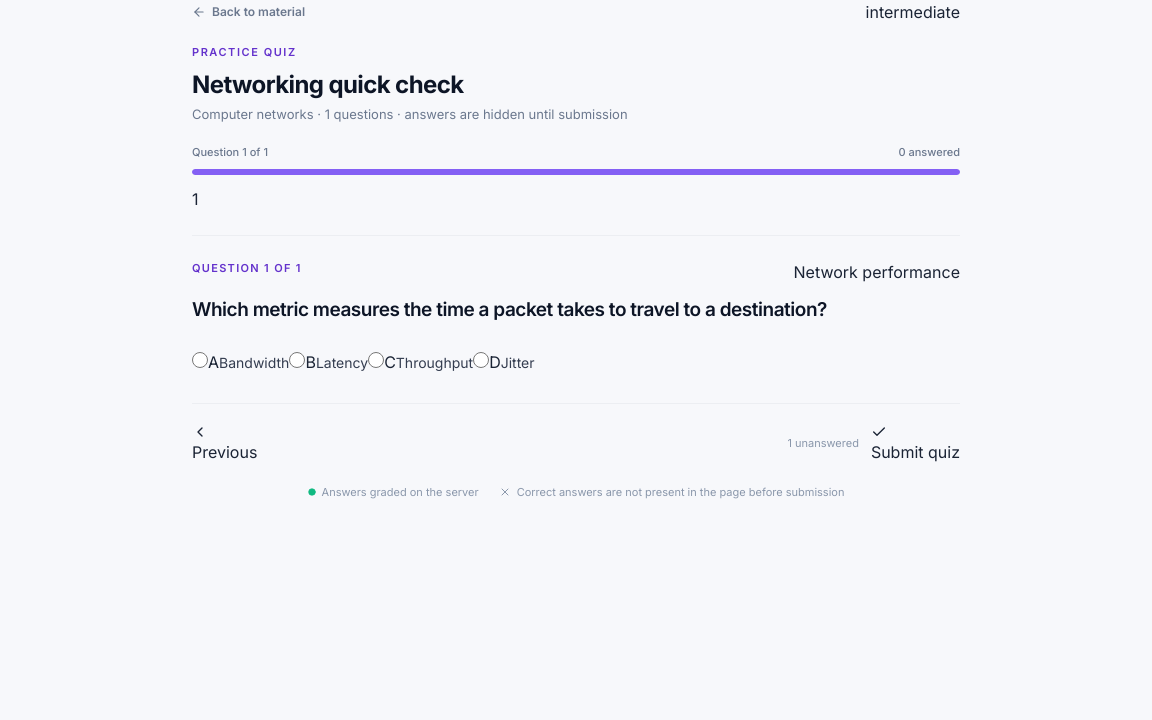
it: Quiz taking and server grading › lets the student select an answer, submits to the server and shows the grade
Check: the heading "Which metric measures the time a packet takes to travel to a destination?" is shown, box [192,298,827,320]
Click the 2nd radio button: click(297, 360) [289,352,305,368]
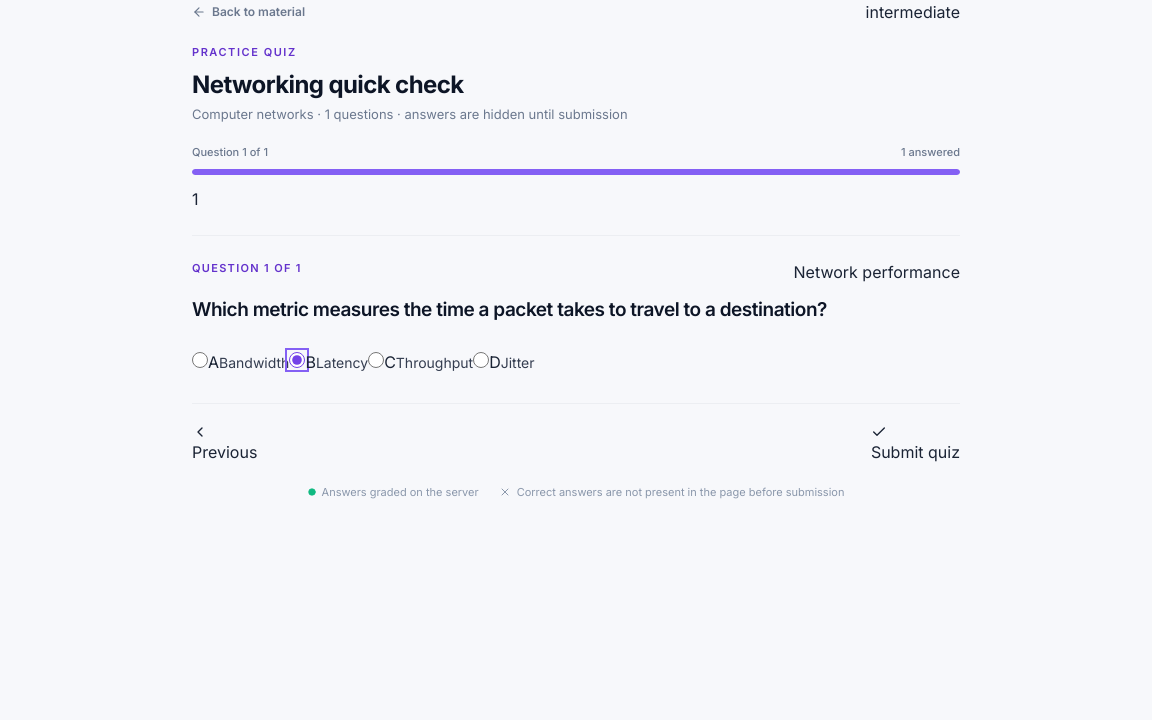
Click the button "Submit quiz": click(915, 444) [871,424,960,464]
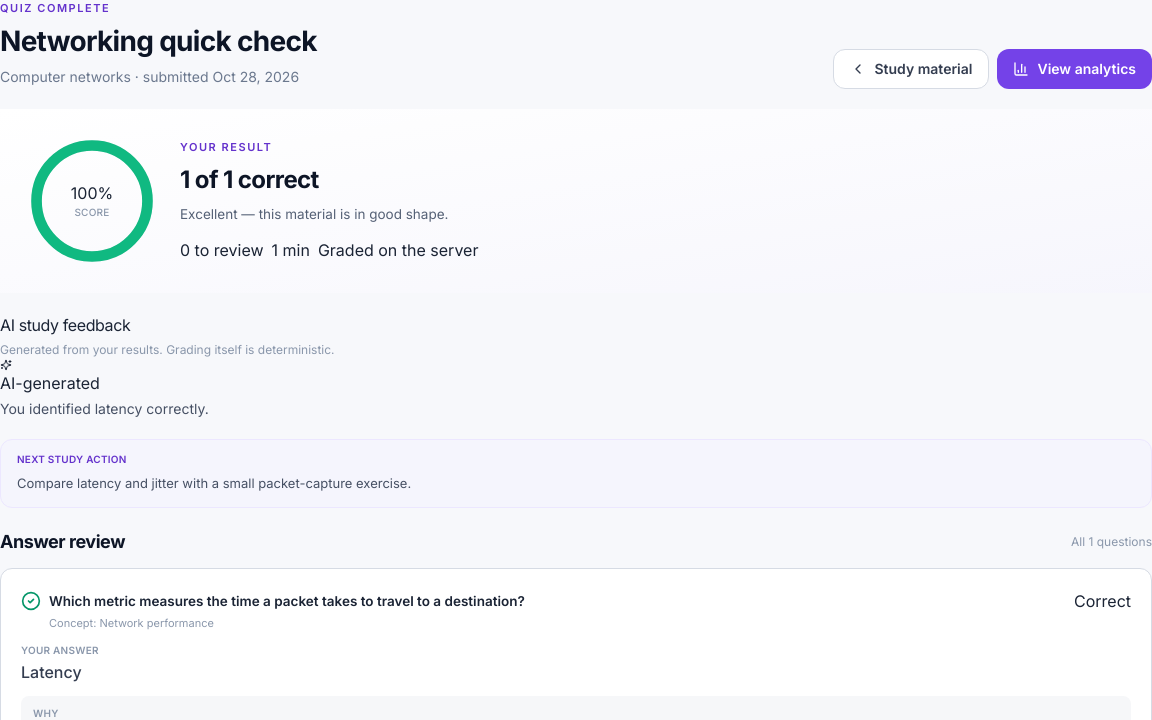
Check: the text "1 of 1 correct" is shown, box [180,165,319,194]
Check: the text "Correct" is shown, box [1074,588,1131,612]
Check: the heading "Answer review" is shown, box [0,528,125,556]
